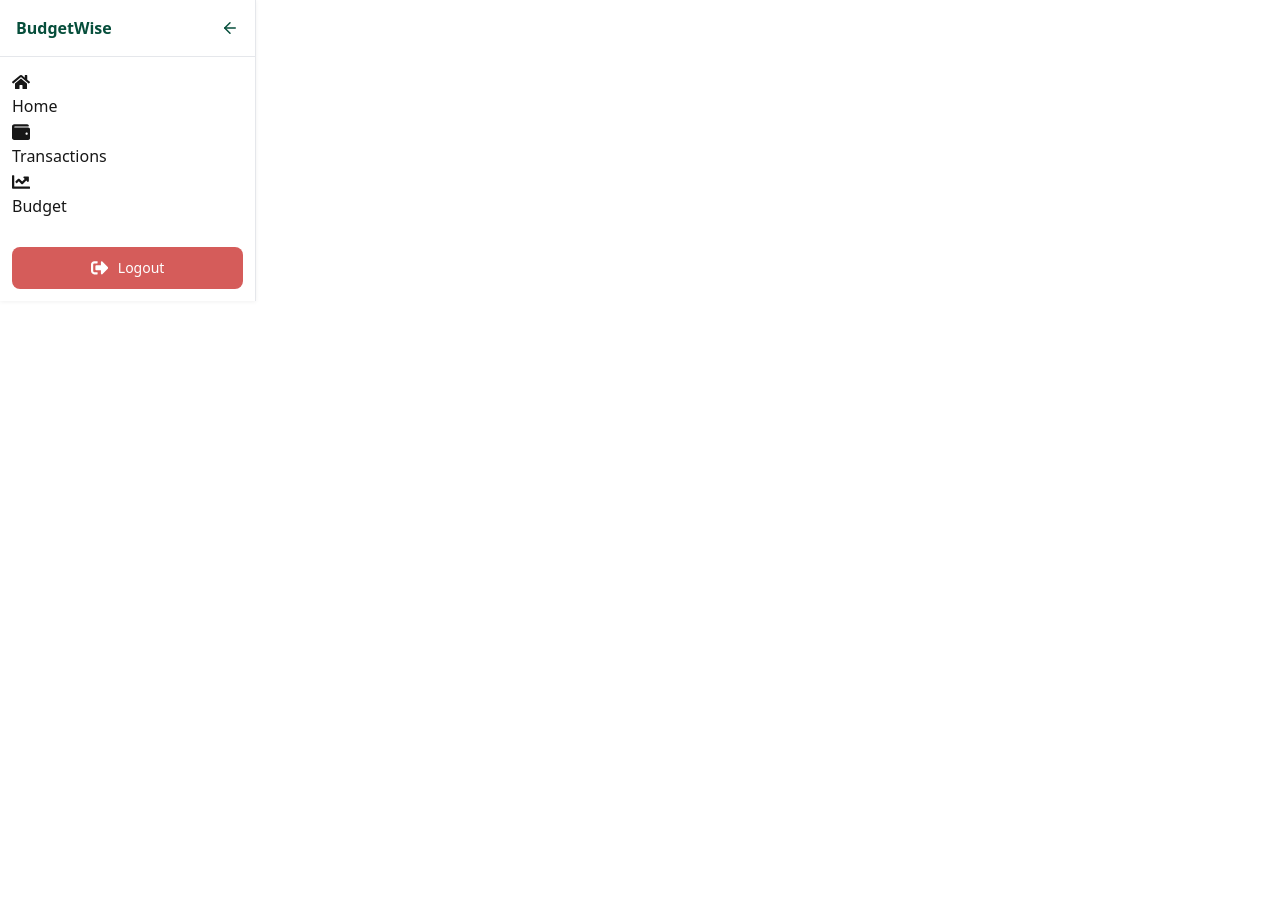
Test: Sidebar › cancels logout when cancel button is clicked
Click logout button - should show modal
Click the button "Logout": click(128, 268) 12,247 -> 243,289
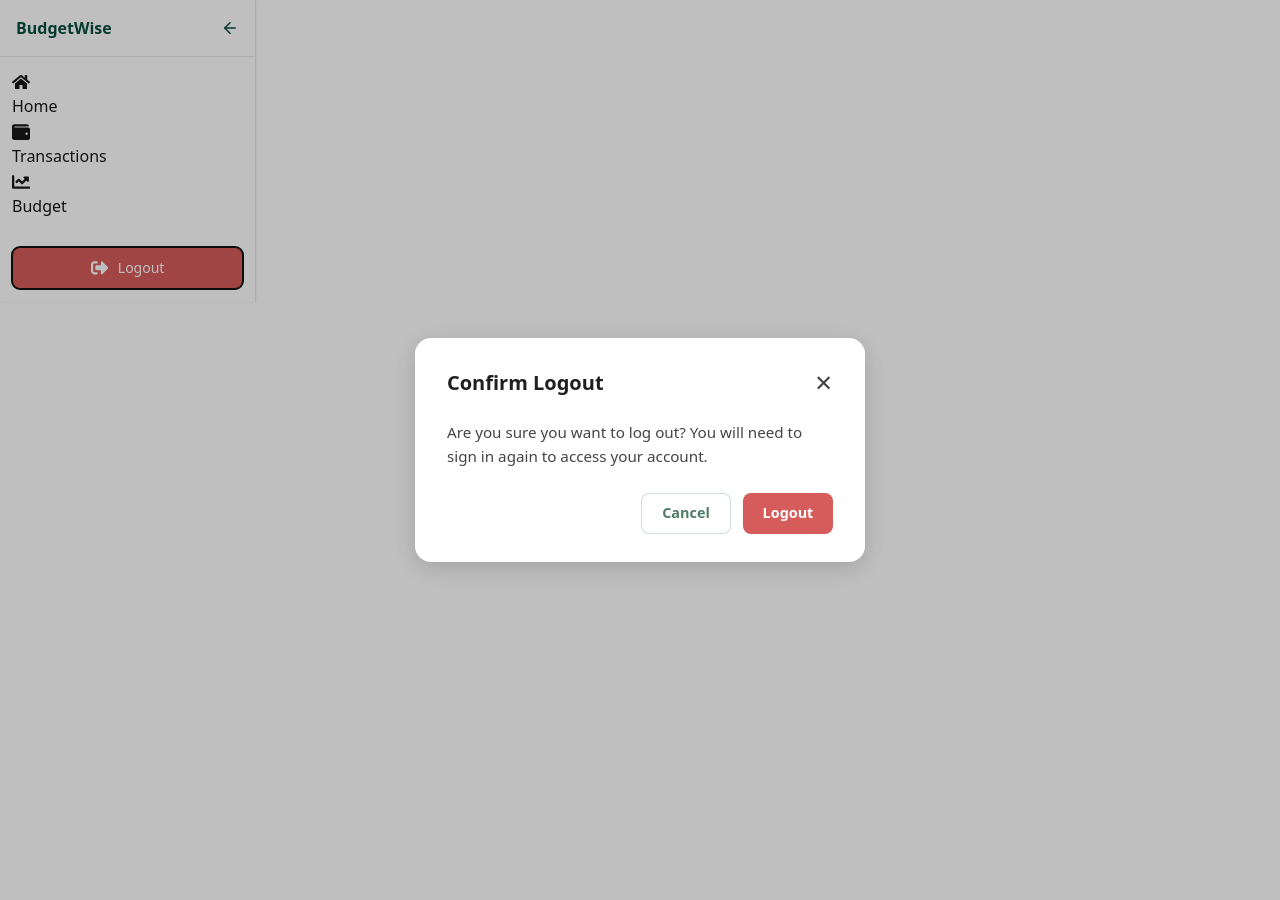
Expected: the heading "Confirm Logout" is shown, 447,368 -> 604,398
Click cancel button
Click the button "Cancel": click(686, 513) 641,492 -> 731,534
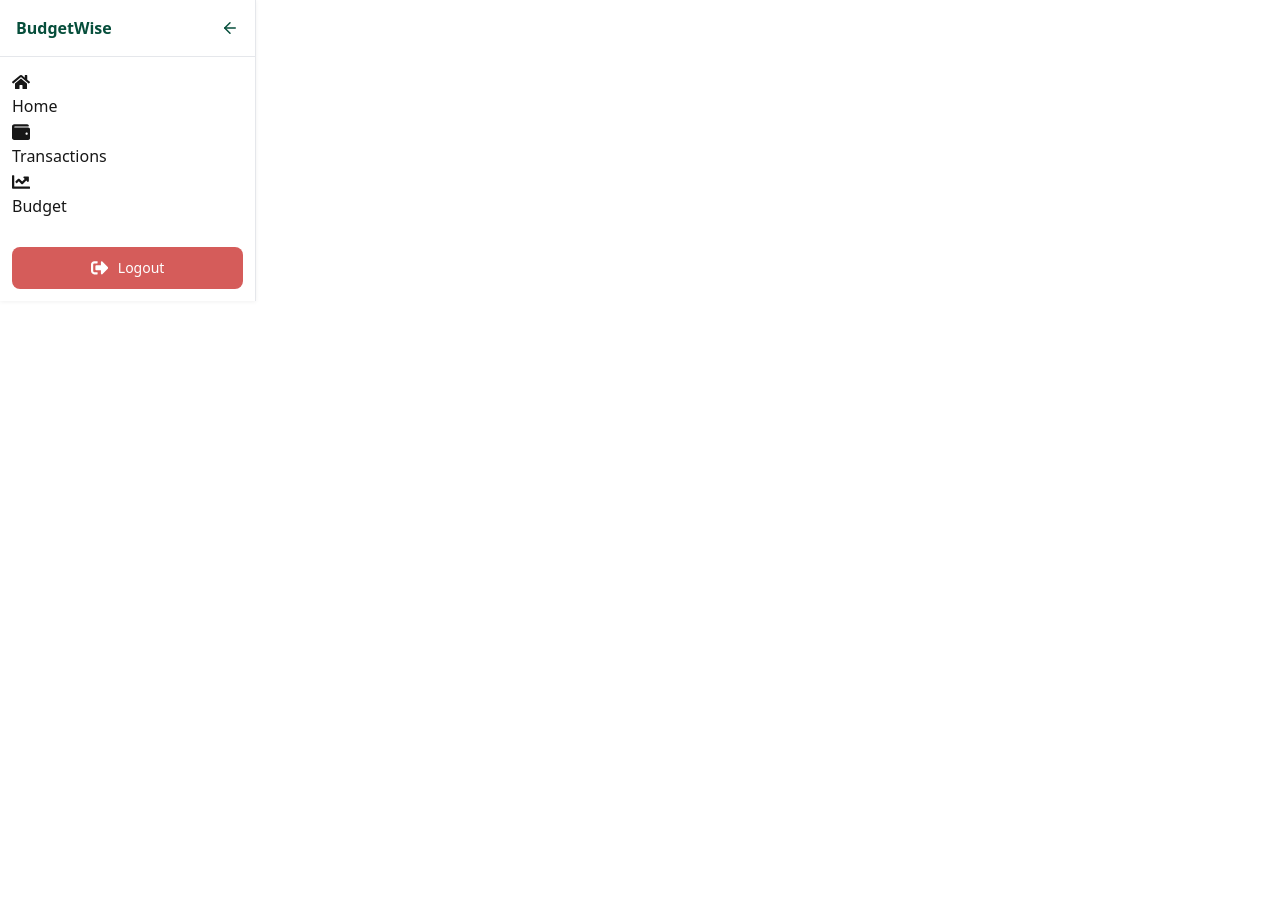
Expected: the heading "Confirm Logout" is gone
